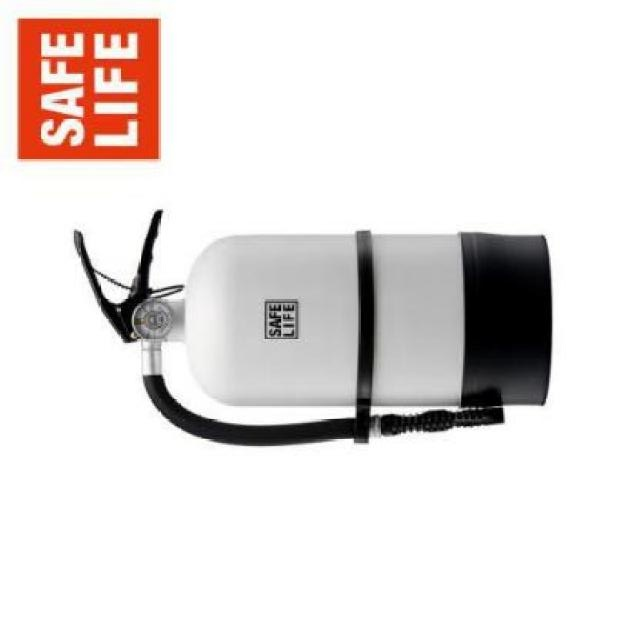fire extinguisher: (73, 210, 553, 448)
